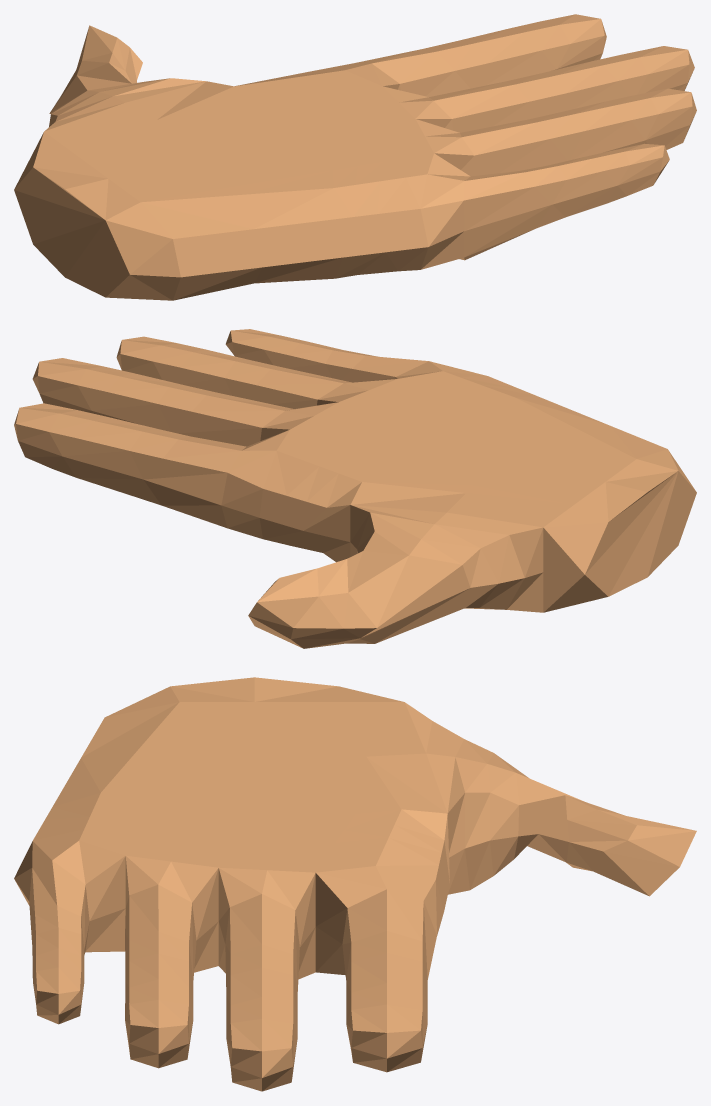
The model's file is right hand2.fbx.
3 views of the same model, one above another, from view 1: azimuth 30°, elevation 25°; view 2: azimuth 150°, elevation 25°; view 3: azimuth 270°, elevation 25° (orthographic). The views are drawn at different scales.
Visible parts, largest first — view 1: Cube; view 2: Cube; view 3: Cube.
Part boxes in pixels (x1,y1,x2,y2): Cube: [14, 14, 696, 300]; Cube: [14, 329, 696, 648]; Cube: [14, 677, 696, 1091].
Size of the model in its own units: 458 by 63.92 by 367.
